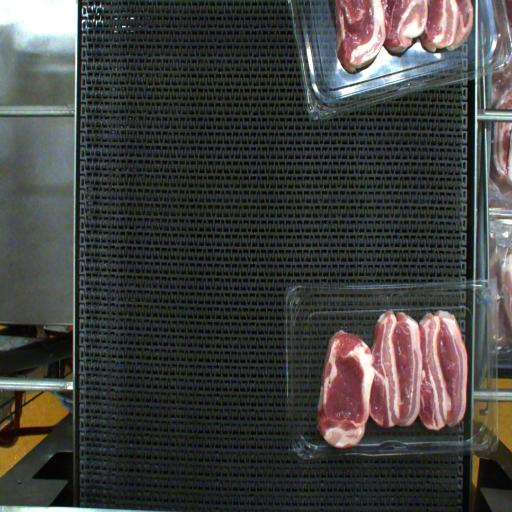packaging-error: (316, 422, 366, 468)
